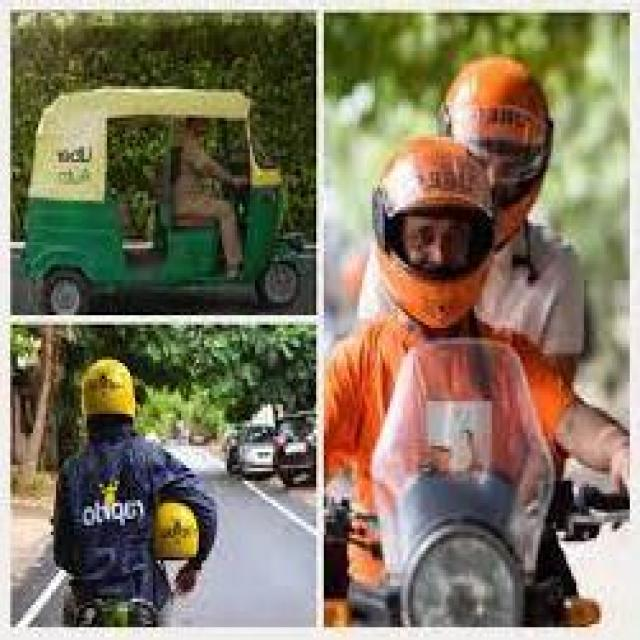Reflective-Jacket: (326, 248, 592, 624)
Safety-Helmet: (342, 115, 518, 242), (74, 351, 143, 424)
